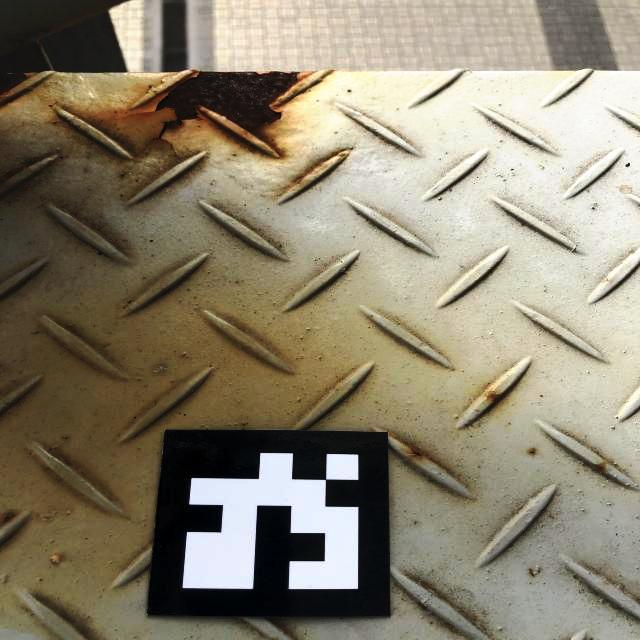Corrosion: (151, 70, 318, 140), (0, 71, 37, 96)
